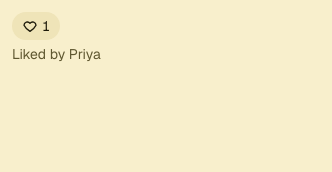
Scenario: LikeButton › goes back and explains when the like could not be saved
The width and height of the screenshot is (332, 172).
Click the button: (36, 26) [12, 12, 60, 40]
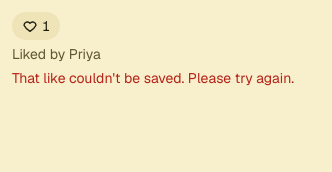
Expected: the message reads "That like couldn't be saved. Please try again.", [12, 69, 294, 87]
